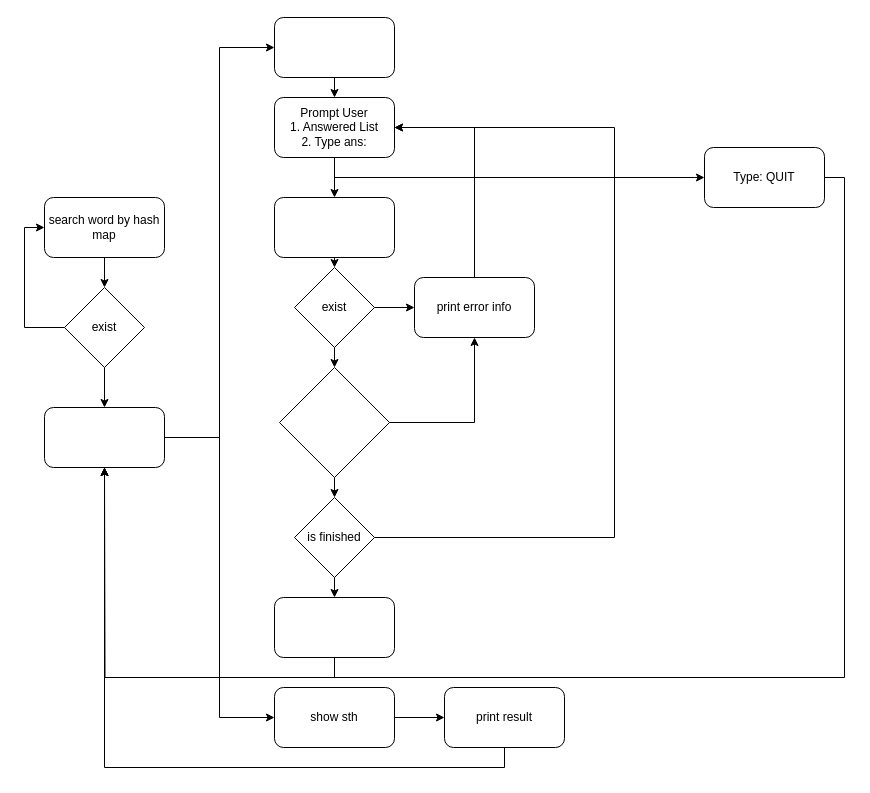
The diagram is 870 pixels wide and 793 high, and some of its shapes have lost their labels. The shapes that lost their labels are listed below. From the top down, each one's centre as x and y in pixels, then its label:
At (x=334, y=47): "quest sth".
At (x=334, y=227): "Type: one answer".
At (x=104, y=437): "mode: quiz sth show sth exit".
At (x=334, y=422): "exist in answered list".
At (x=334, y=627): "Show Great Job".
